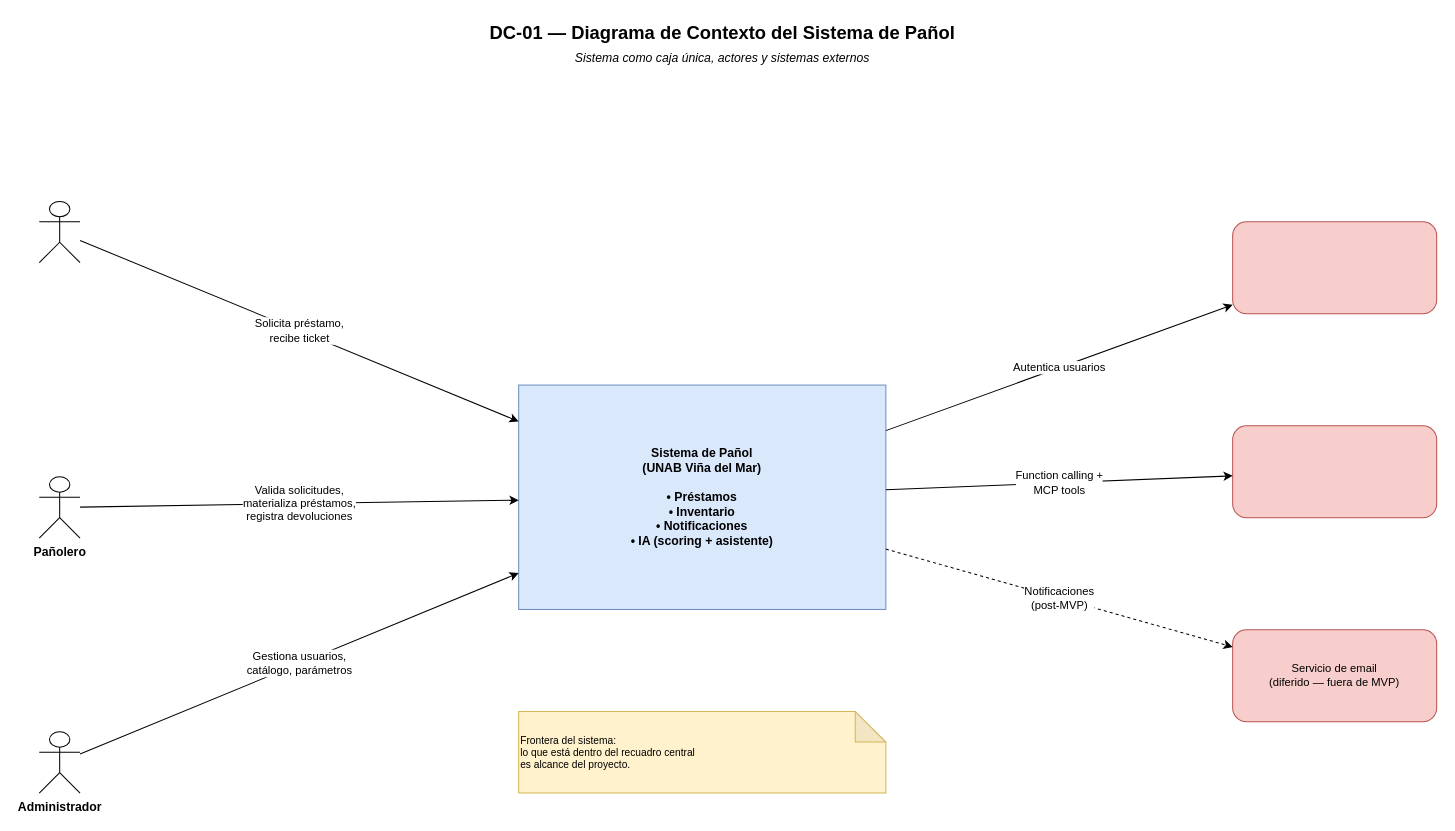
Some shapes in this 1455 by 831 pixel diagram are drawn without their labels. Each missing label, with the centre of its shape:
"Alumno" belongs at (59,231).
"LDAP / SSO UNAB" belongs at (1334,267).
"OpenAI API (Asistente IA)" belongs at (1334,471).
